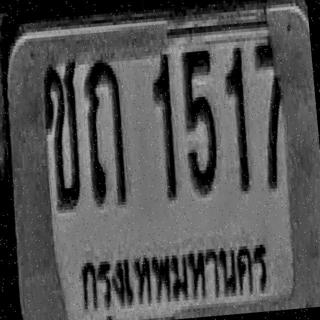A10: (39, 54, 88, 209)
A22: (81, 54, 129, 206)
N01: (149, 52, 180, 200), (222, 44, 253, 192)
N05: (179, 46, 222, 194)
N07: (253, 36, 290, 190)
P04: (73, 224, 274, 320)
